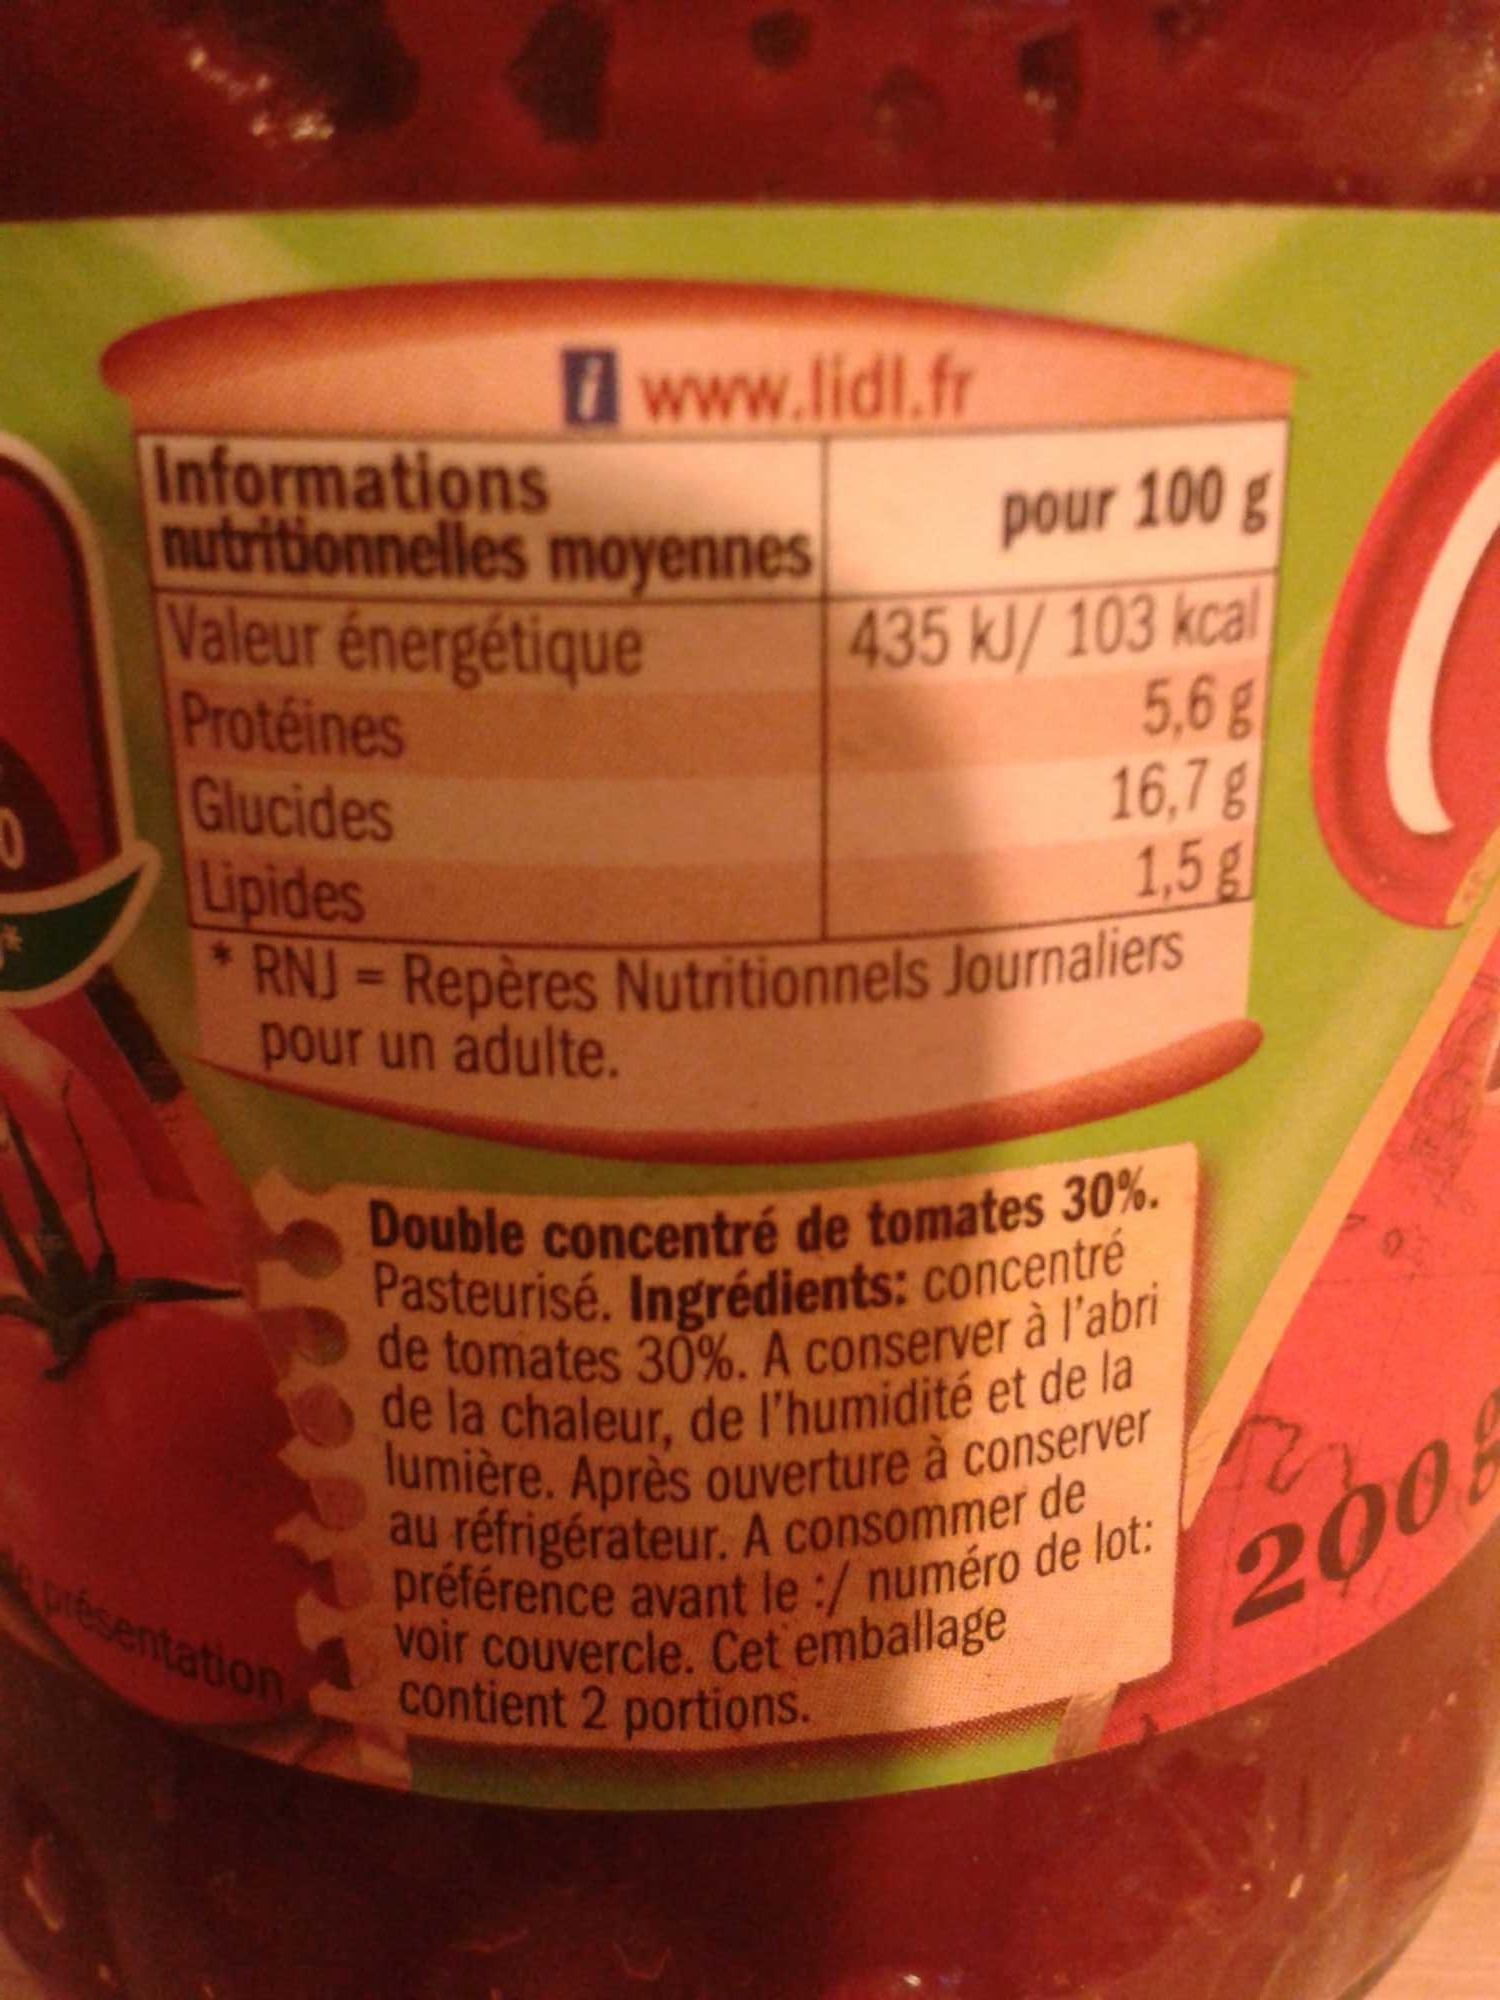column: (151, 431, 808, 924), (854, 450, 1272, 935)
table: (128, 422, 1287, 931)
